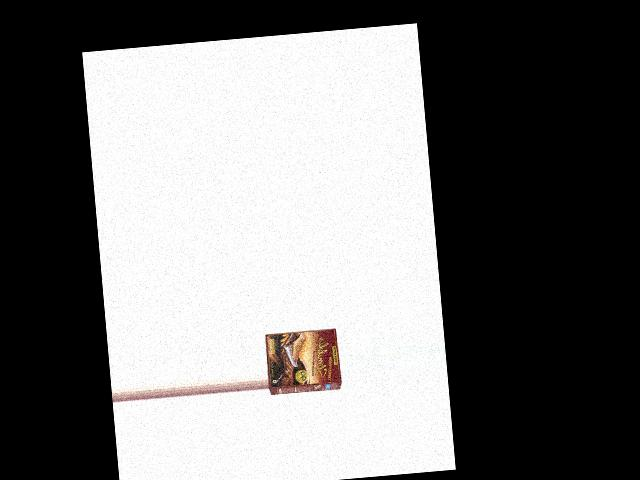chocolate: (263, 321, 343, 399)
